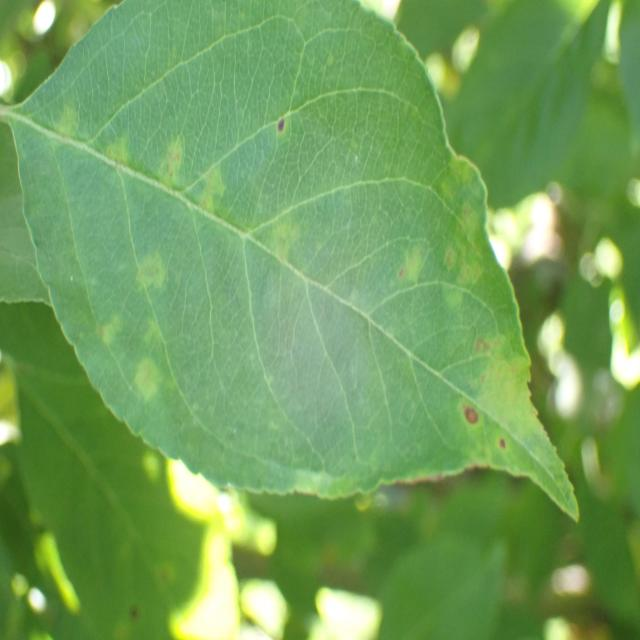scab: (43, 46, 526, 486)
